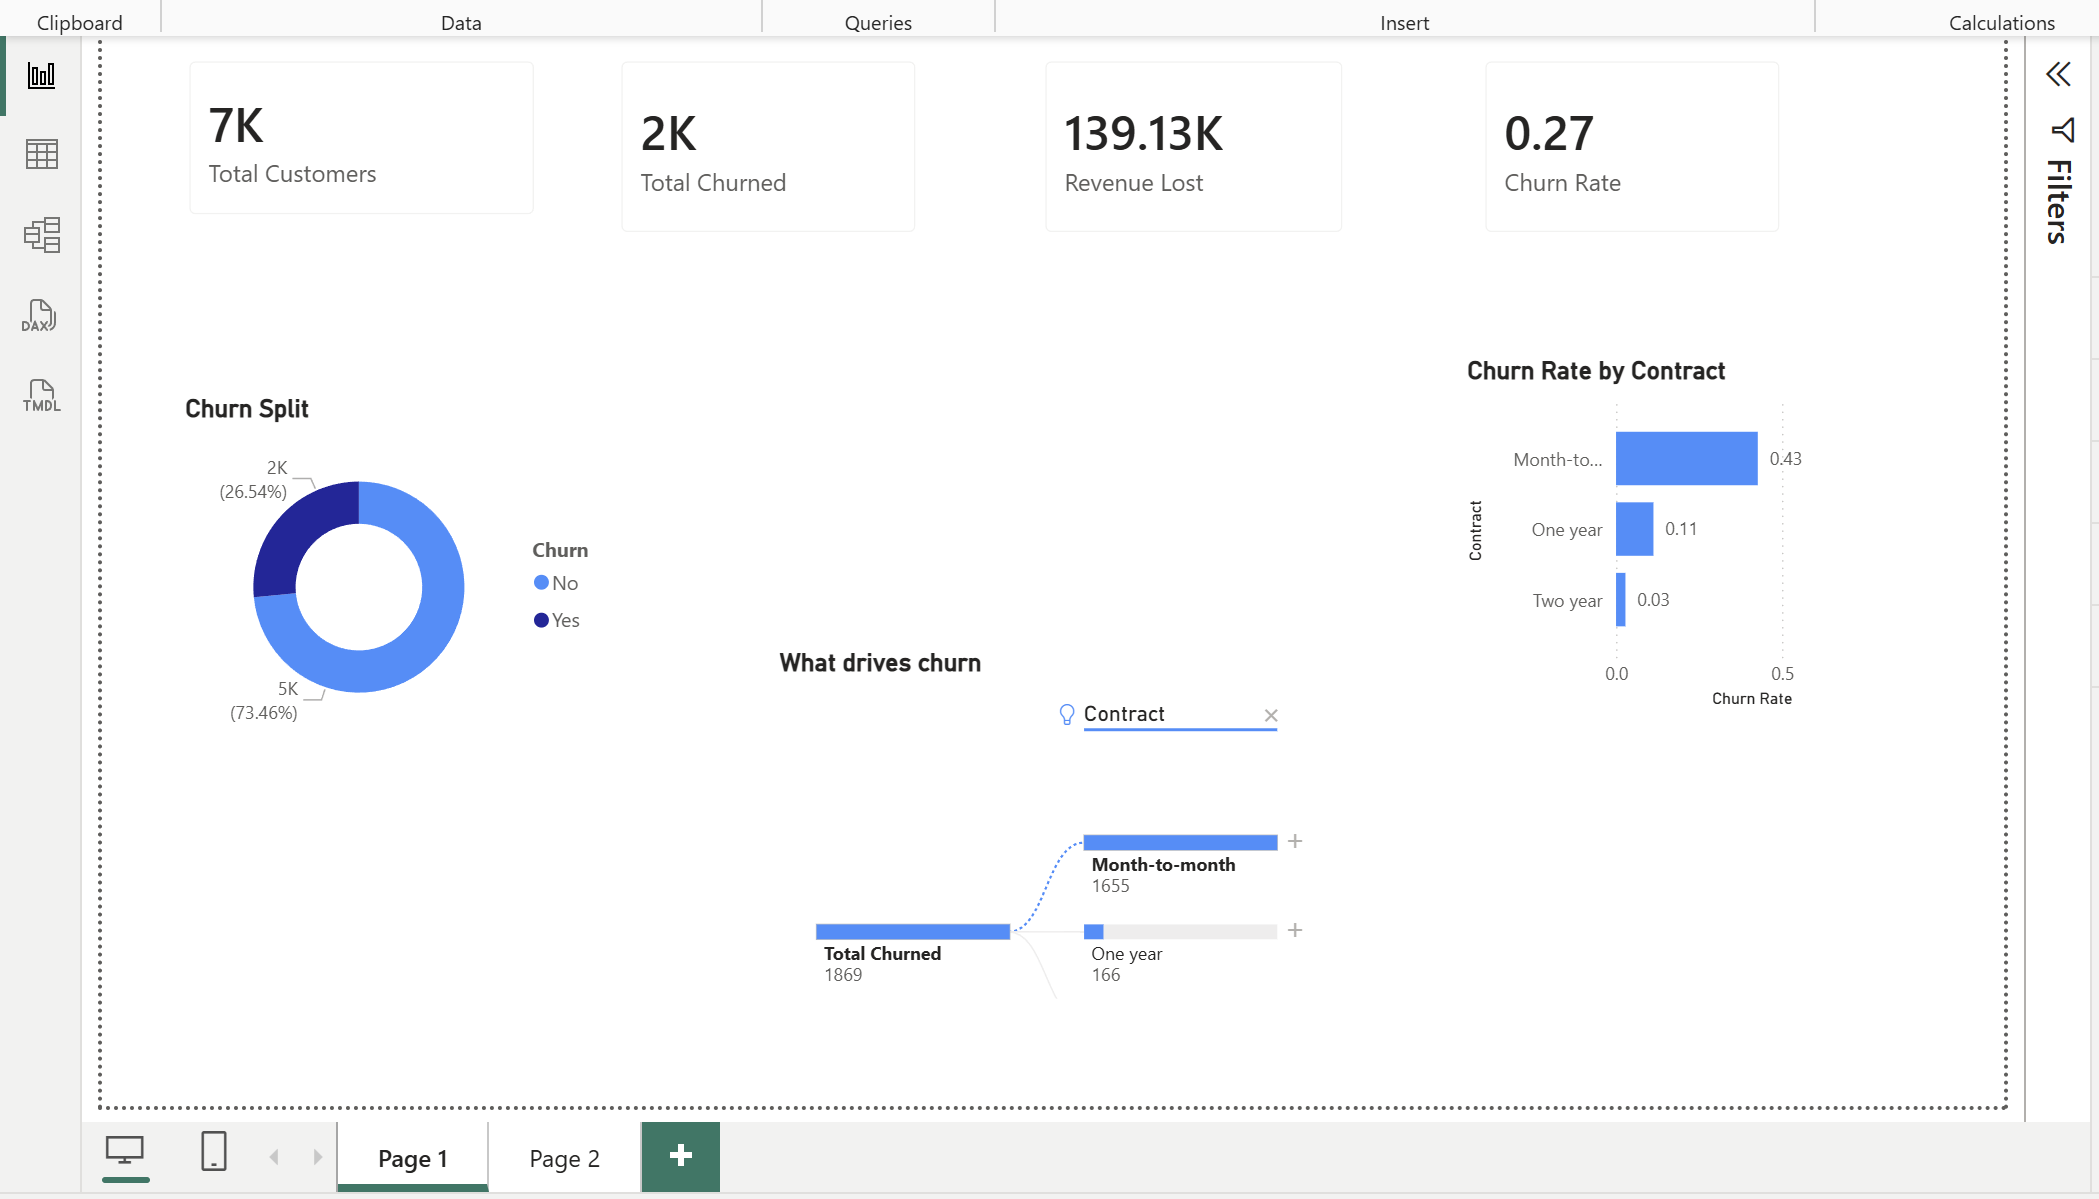

What the dashboard file says about the page in this screenshot:
{"tool":"powerbi","page":{"name":"Page 1","canvas":[1280,720],"ordinal":0},"visuals":[{"type":"cardVisual","fields":{"Data":["_Measure.Total Customers"]},"box":[41.7,0,266.5,137.3],"z":0},{"type":"cardVisual","fields":{"Data":["_Measure.Total Churned"]},"box":[332.4,0,232.8,149.4],"z":1000},{"type":"cardVisual","fields":{"Data":["_Measure.Revenue Lost"]},"box":[617.7,0,234.2,149.4],"z":2000},{"type":"cardVisual","fields":{"Data":["_Measure.Churn Rate"]},"box":[913.8,0,232.8,149.4],"z":3000},{"type":"donutChart","title":"Churn Split","fields":{"Category":["WA_Fn-UseC_-Telco-Customer-Churn.Churn"],"Y":["_Measure.Total Customers"]},"box":[41.7,172.3,301.5,240.9],"z":4000},{"type":"clusteredBarChart","fields":{"Category":["WA_Fn-UseC_-Telco-Customer-Churn.Contract"],"Y":["_Measure.Churn Rate"]},"box":[53,458,301,241],"z":5000},{"type":"pivotTable","title":"\"Segment Summary","fields":{"Rows":["WA_Fn-UseC_-Telco-Customer-Churn.Contract"],"Values":["_Measure.Churn Rate","_Measure.Total Customers"]},"box":[891.1,459.1,347.5,240.7],"z":6000},{"type":"decompositionTreeVisual","title":"What drives churn","fields":{"Analyze":["_Measure.Total Churned"],"ExplainBy":["WA_Fn-UseC_-Telco-Customer-Churn.Contract","WA_Fn-UseC_-Telco-Customer-Churn.InternetService","WA_Fn-UseC_-Telco-Customer-Churn.PaymentMethod"]},"box":[374.1,149.4,380.9,240.9],"z":7000},{"type":"slicer","fields":{"Values":["WA_Fn-UseC_-Telco-Customer-Churn.gender"]},"box":[411.8,457.6,383.6,240.9],"z":7001},{"type":"slicer","fields":{"Values":["WA_Fn-UseC_-Telco-Customer-Churn.Contract"]},"box":[857.3,172.3,380.9,240.9],"z":7002}]}

Visuals, with their boxes on the page's 1280x720 design canvas (x1, y1, x2, y2). These are canvas units, not pixel positions in the 2099x1199 screenshot, which may show the page scaled, cropped or inside an application window:
cardVisual - _Measure.Total Customers: pyautogui.locateOnScreen(42, 0, 308, 137)
cardVisual - _Measure.Total Churned: pyautogui.locateOnScreen(332, 0, 565, 149)
cardVisual - _Measure.Revenue Lost: pyautogui.locateOnScreen(618, 0, 852, 149)
cardVisual - _Measure.Churn Rate: pyautogui.locateOnScreen(914, 0, 1147, 149)
"Churn Split" donutChart: pyautogui.locateOnScreen(42, 172, 343, 413)
clusteredBarChart - WA_Fn-UseC_-Telco-Customer-Churn.Contract x _Measure.Churn Rate: pyautogui.locateOnScreen(53, 458, 354, 699)
""Segment Summary" pivotTable: pyautogui.locateOnScreen(891, 459, 1239, 700)
"What drives churn" decompositionTreeVisual: pyautogui.locateOnScreen(374, 149, 755, 390)
slicer - WA_Fn-UseC_-Telco-Customer-Churn.gender: pyautogui.locateOnScreen(412, 458, 795, 698)
slicer - WA_Fn-UseC_-Telco-Customer-Churn.Contract: pyautogui.locateOnScreen(857, 172, 1238, 413)
